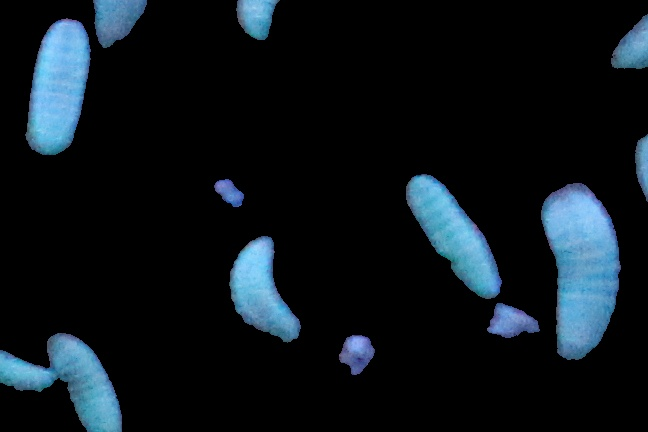larvae: (539, 186, 621, 359), (402, 168, 503, 299), (25, 17, 91, 155), (226, 231, 303, 341), (43, 332, 125, 432), (1, 312, 53, 400), (89, 1, 158, 47), (225, 1, 285, 45)
